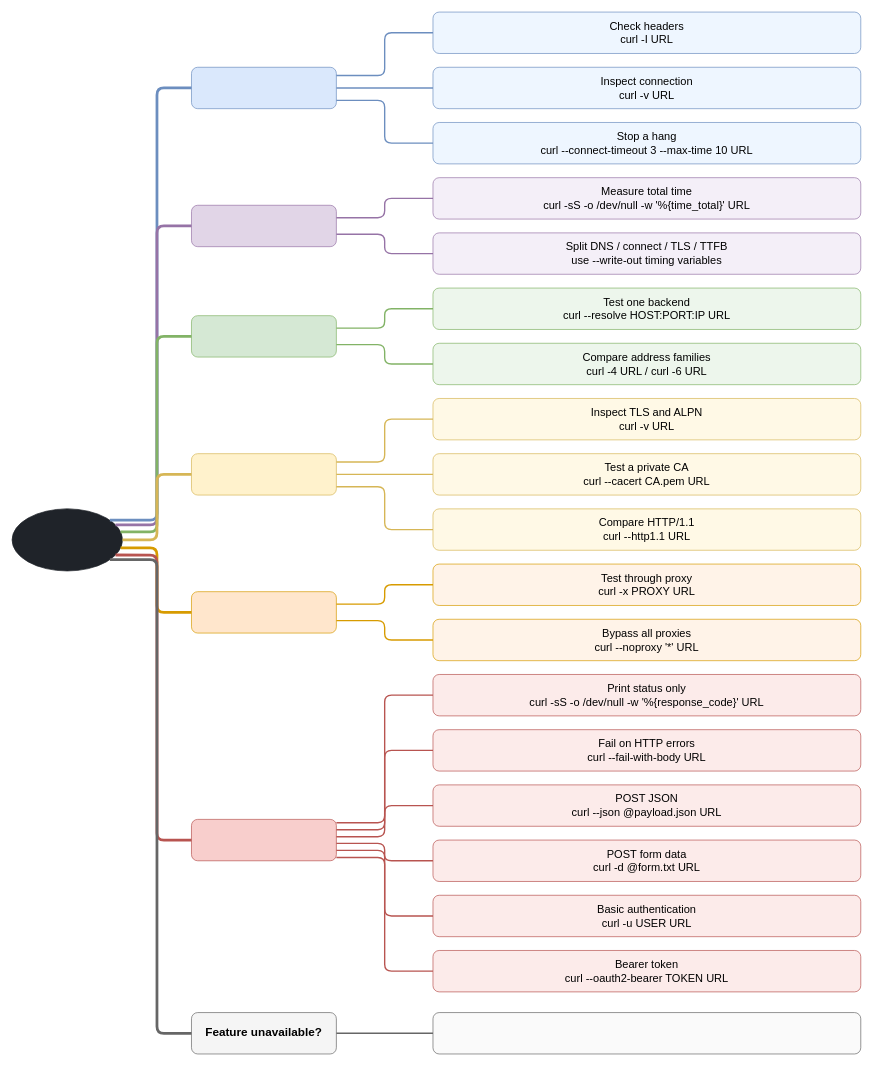
Image size: 873x1066. Some labels were removed from this diagram. Here are the shapes that lost their labels. From the top down, the centre of each, then its label:
At point 263,88: "No response?".
At point 263,226: "Too slow?".
At point 263,336: "DNS or routing?".
At point 263,474: "TLS or protocol?".
At point 66,539: "curl".
At point 263,612: "Proxy involved?".
At point 263,840: "HTTP or API?".
At point 646,1033: "Inspect local build curl --version".
